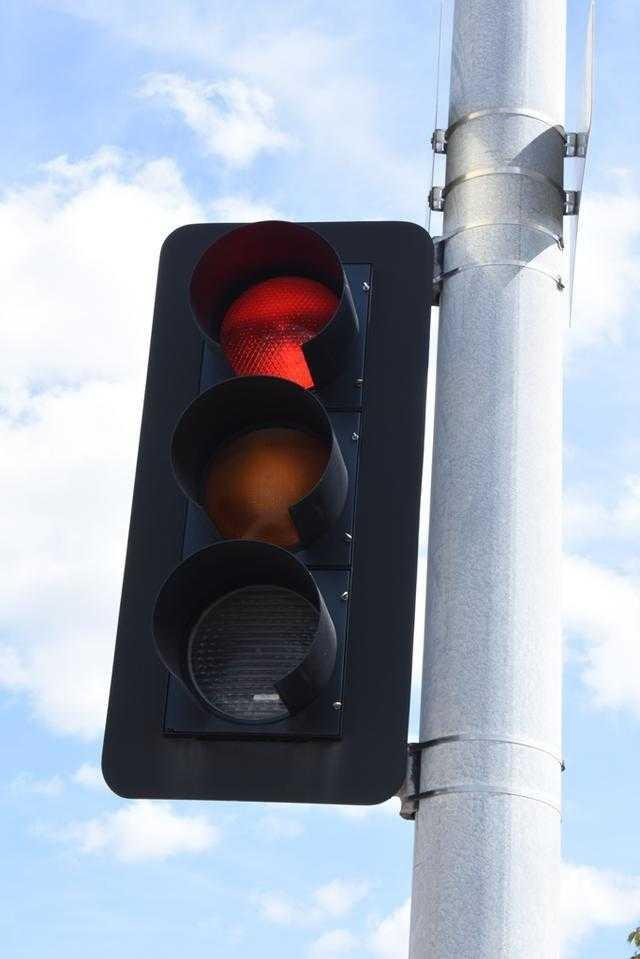red: (163, 228, 378, 786), (191, 222, 374, 396)
